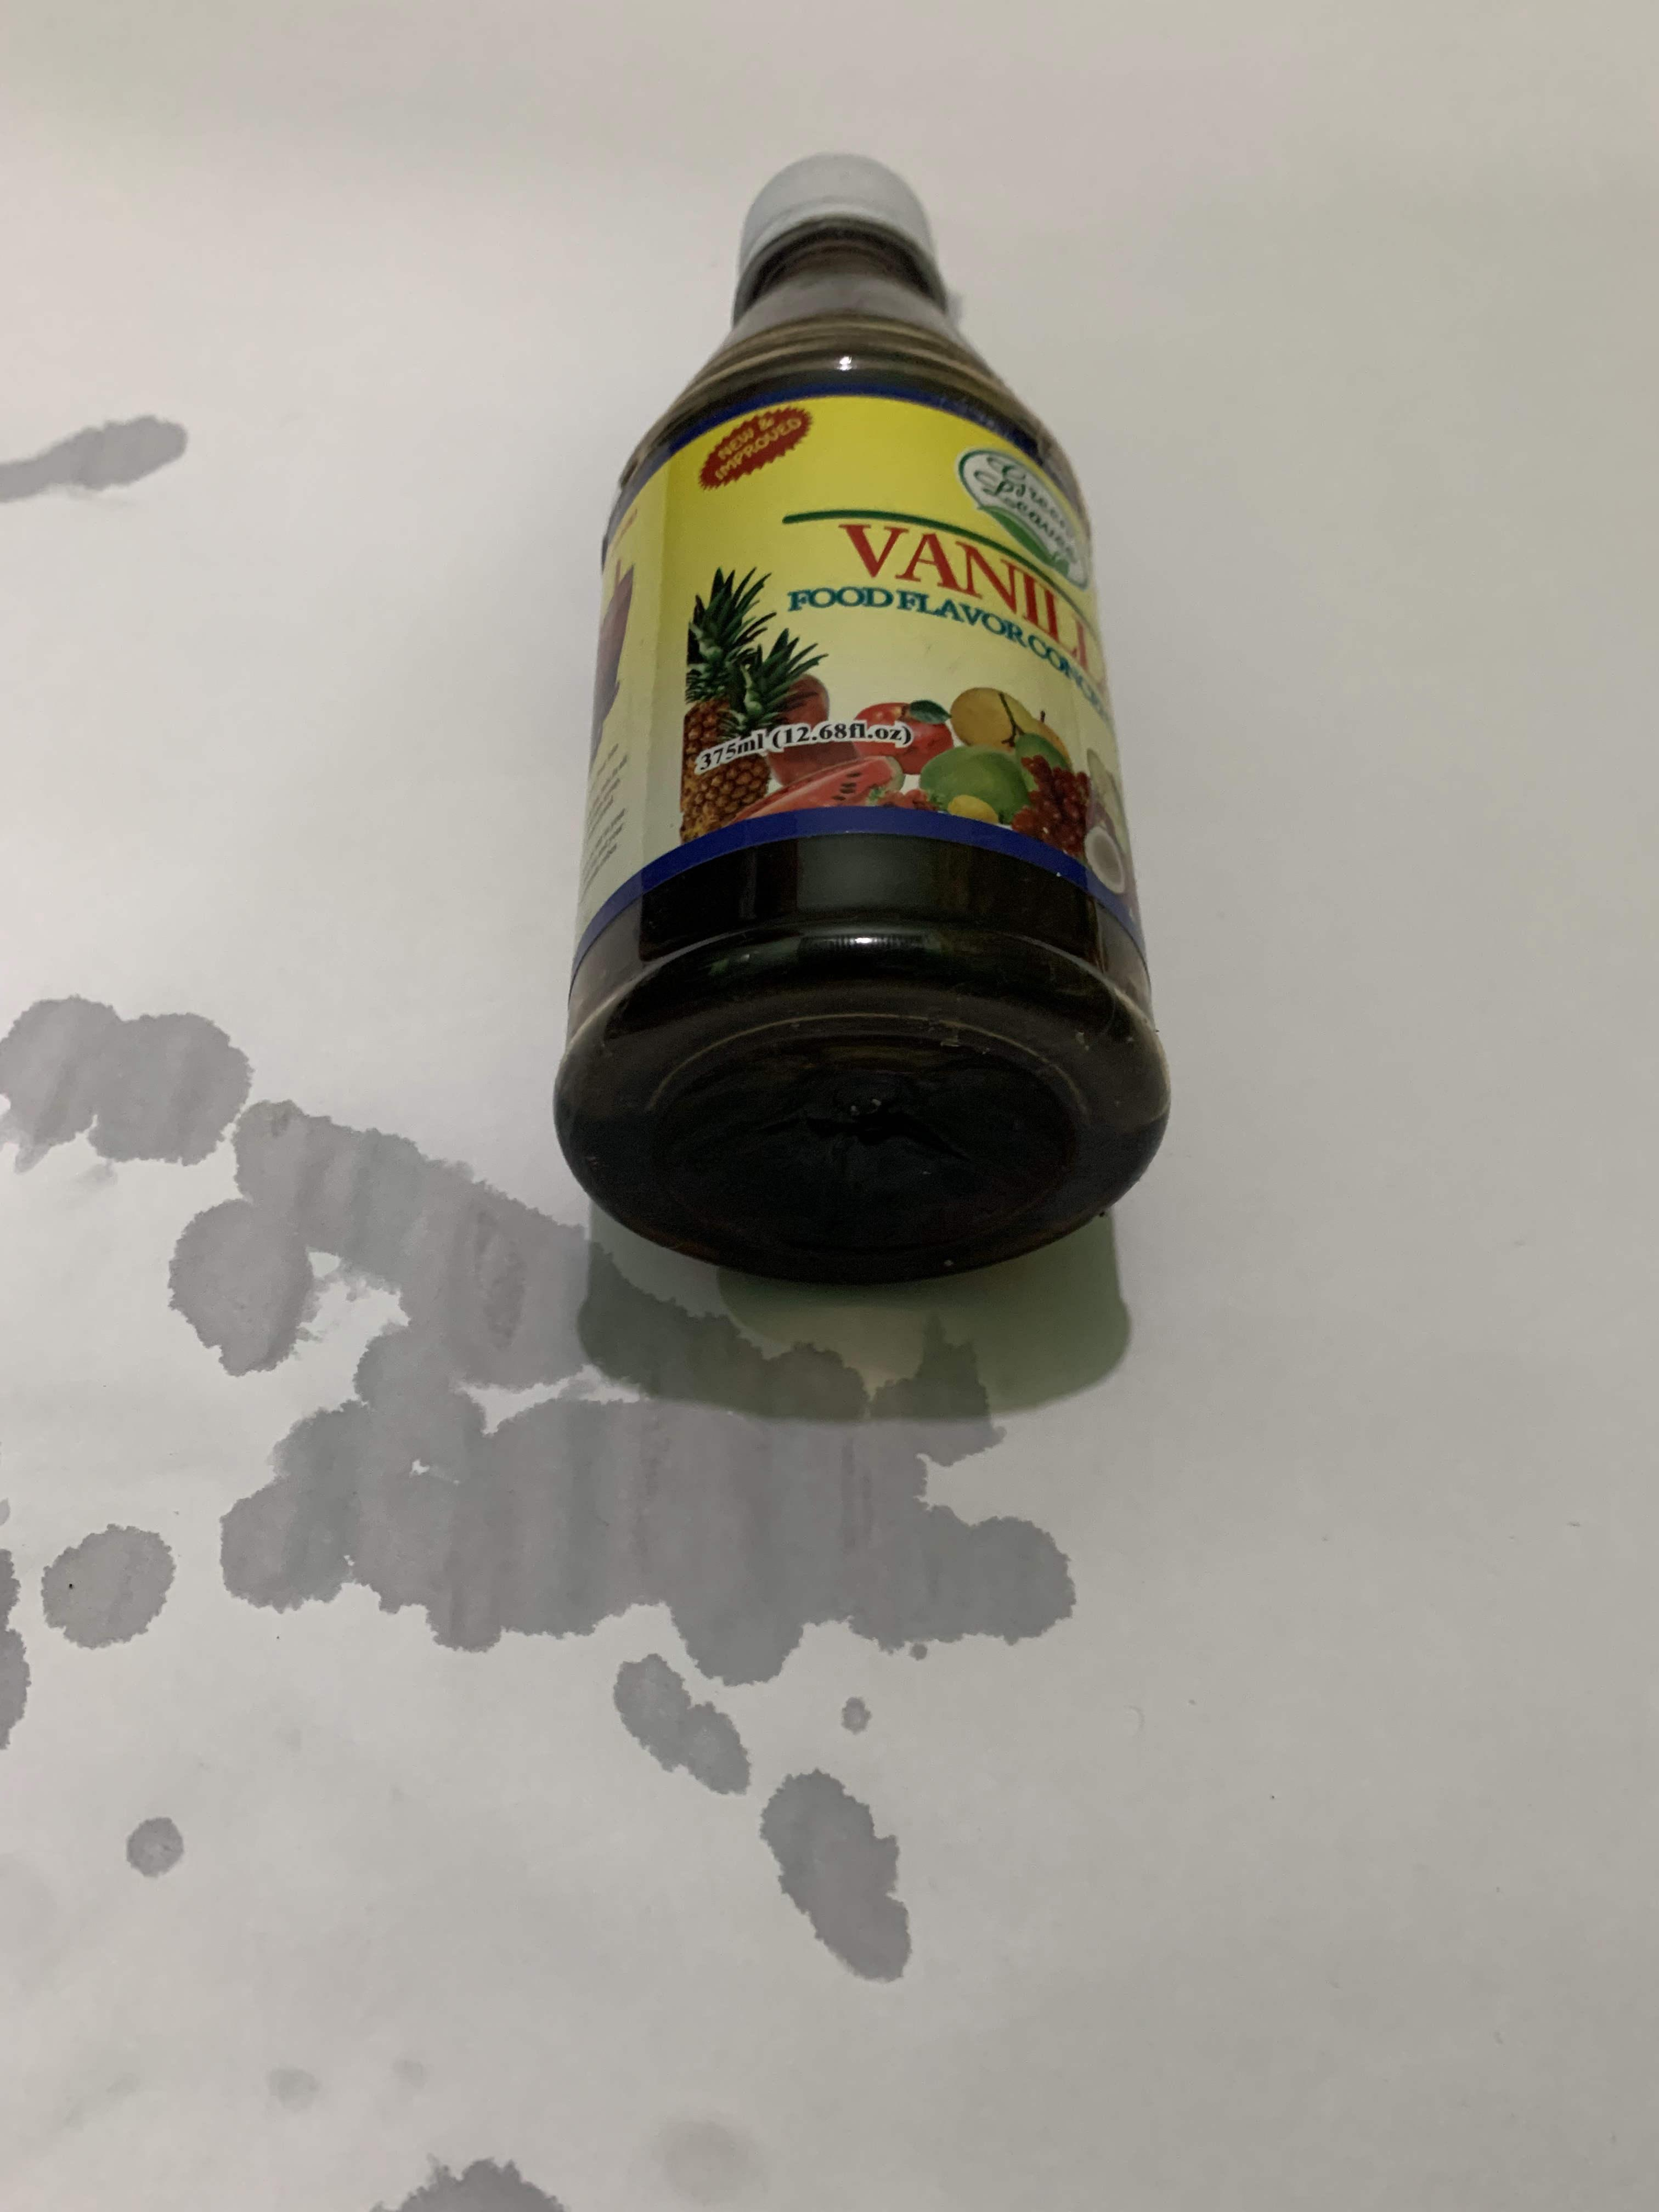bottle: (0, 695, 350, 742)
